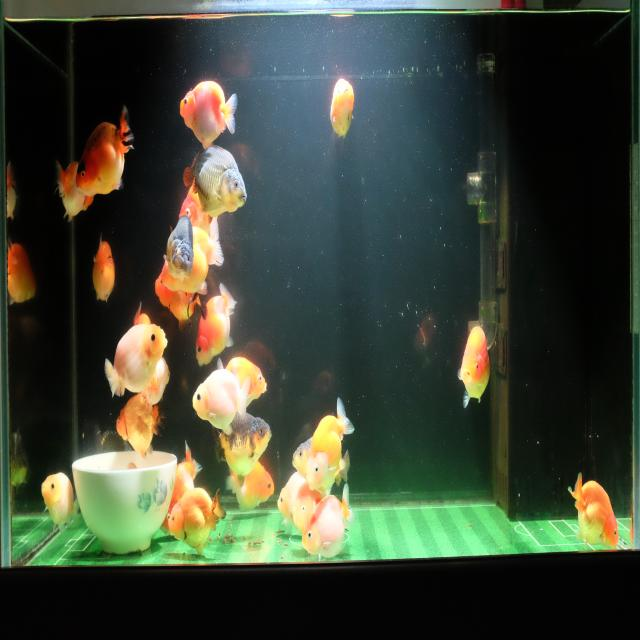Tilapia: (74, 104, 134, 200), (162, 211, 225, 296), (182, 144, 248, 222), (103, 324, 167, 402), (306, 394, 355, 491), (214, 408, 271, 486), (178, 78, 237, 152), (566, 471, 620, 550), (166, 487, 226, 557), (159, 438, 203, 532), (154, 260, 208, 334), (301, 484, 353, 560), (191, 373, 251, 436), (292, 430, 350, 494), (195, 283, 237, 370), (116, 394, 166, 460), (458, 324, 492, 413), (215, 355, 268, 410), (224, 460, 275, 516), (53, 158, 95, 225), (40, 468, 80, 536), (162, 212, 194, 282), (5, 237, 37, 306), (276, 470, 308, 529), (91, 234, 116, 306), (330, 76, 355, 142), (292, 484, 322, 535), (178, 182, 212, 224)
